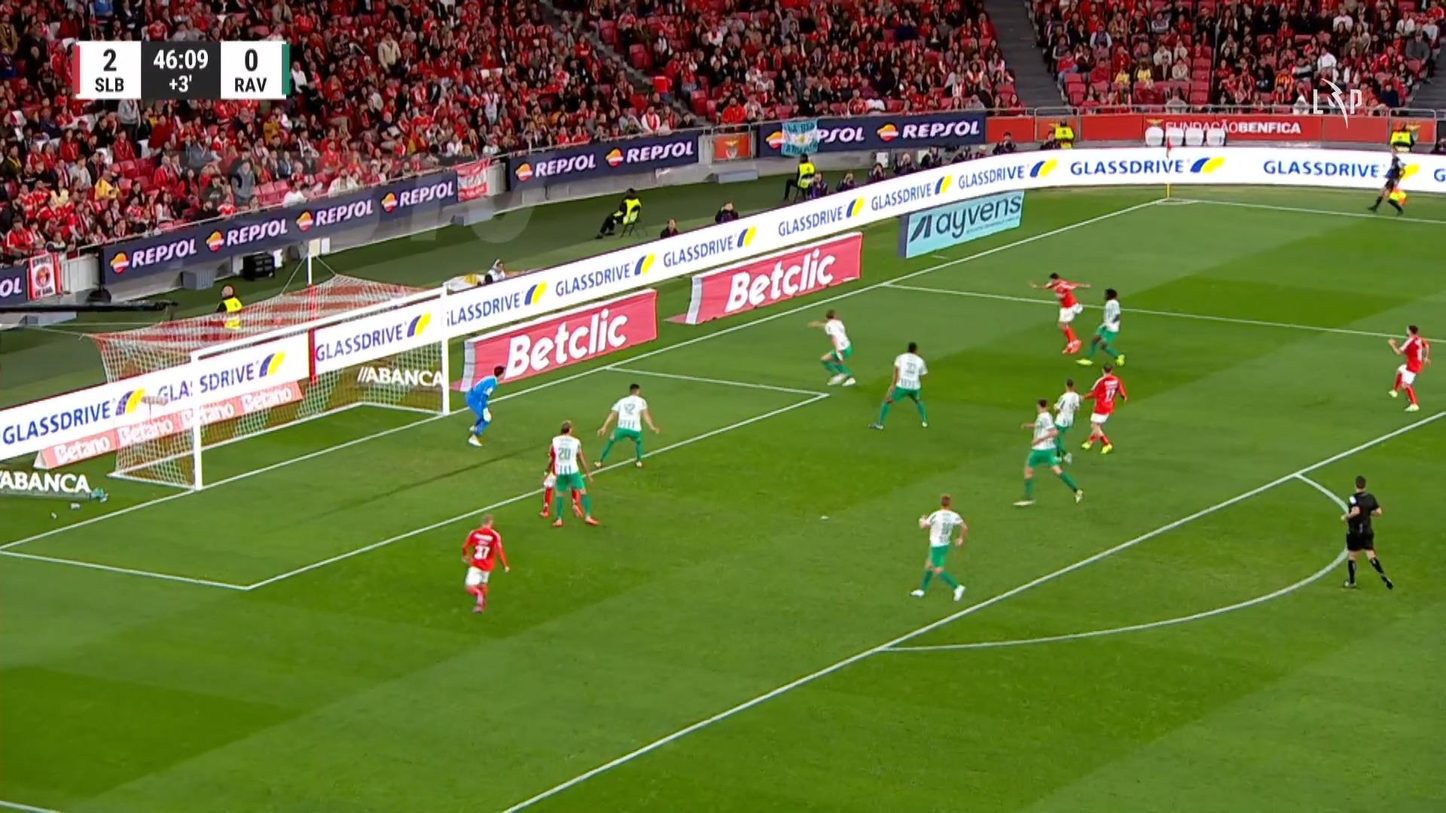goalkeeper: (465, 364, 506, 446)
player: (1012, 397, 1084, 507), (910, 494, 968, 601), (545, 419, 599, 527), (593, 382, 660, 468), (868, 340, 929, 430), (1028, 271, 1091, 355), (460, 513, 511, 614), (1078, 362, 1127, 453), (1075, 287, 1126, 367), (807, 308, 856, 387), (1387, 324, 1430, 412), (1051, 377, 1081, 464)
referee: (1339, 474, 1393, 589), (1367, 145, 1408, 215)
